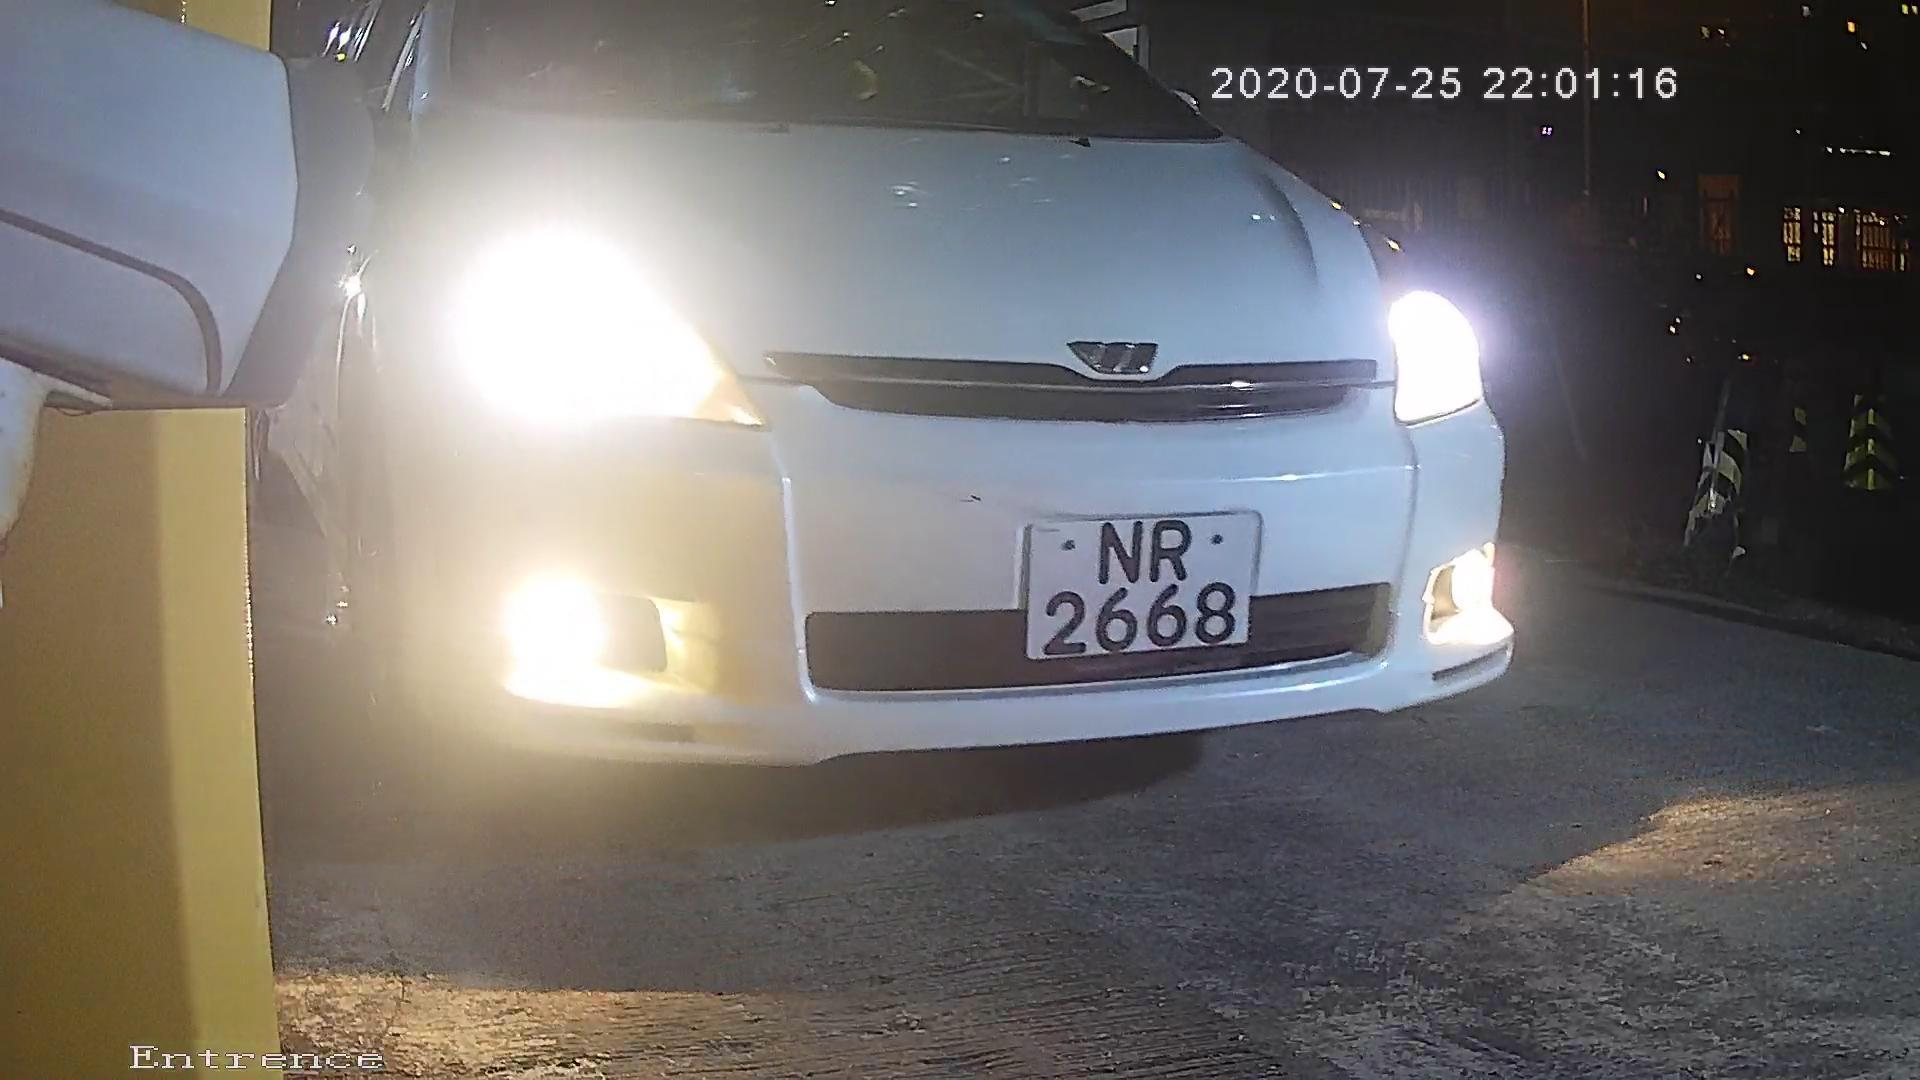privatecar: (258, 3, 1564, 837)
